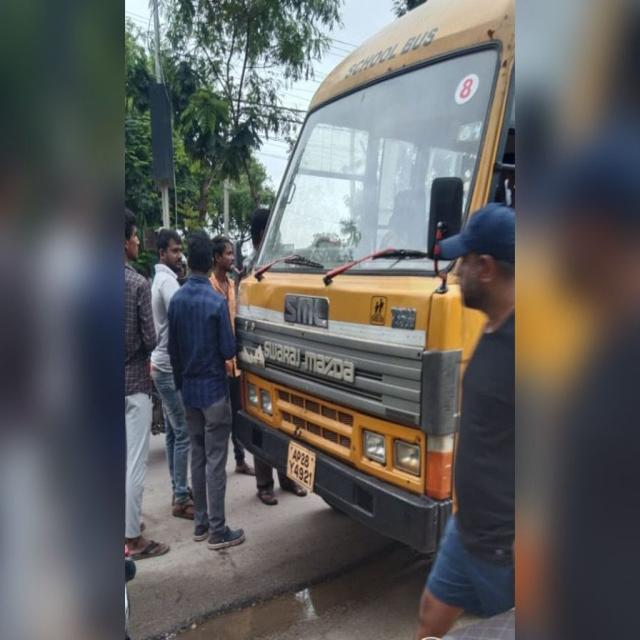bus: (236, 0, 514, 553)
